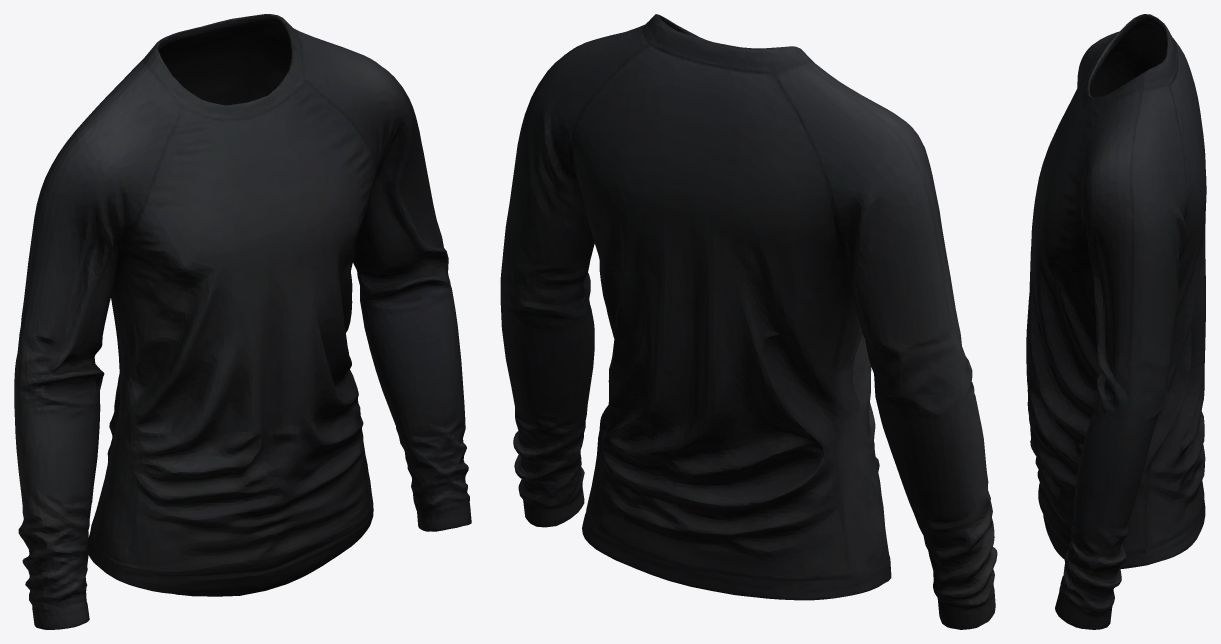
The model's file is full-sleeves.glb.
The picture shows the model from 3 angles, left to right: view 1: azimuth 30°, elevation 25°; view 2: azimuth 150°, elevation 25°; view 3: azimuth 270°, elevation 25°; orthographic projection. The views are drawn at different scales.
Visible parts, largest first — view 1: geometry_0; view 2: geometry_0; view 3: geometry_0.
Boxes of the visible parts, x1,y1,x2,y2 form: geometry_0: (14, 14, 471, 629); geometry_0: (500, 14, 997, 629); geometry_0: (1026, 14, 1206, 629).
Bounding box in the file's own units: 0.8735 × 0.9994 × 0.3297.
1 material, 1 textured.
